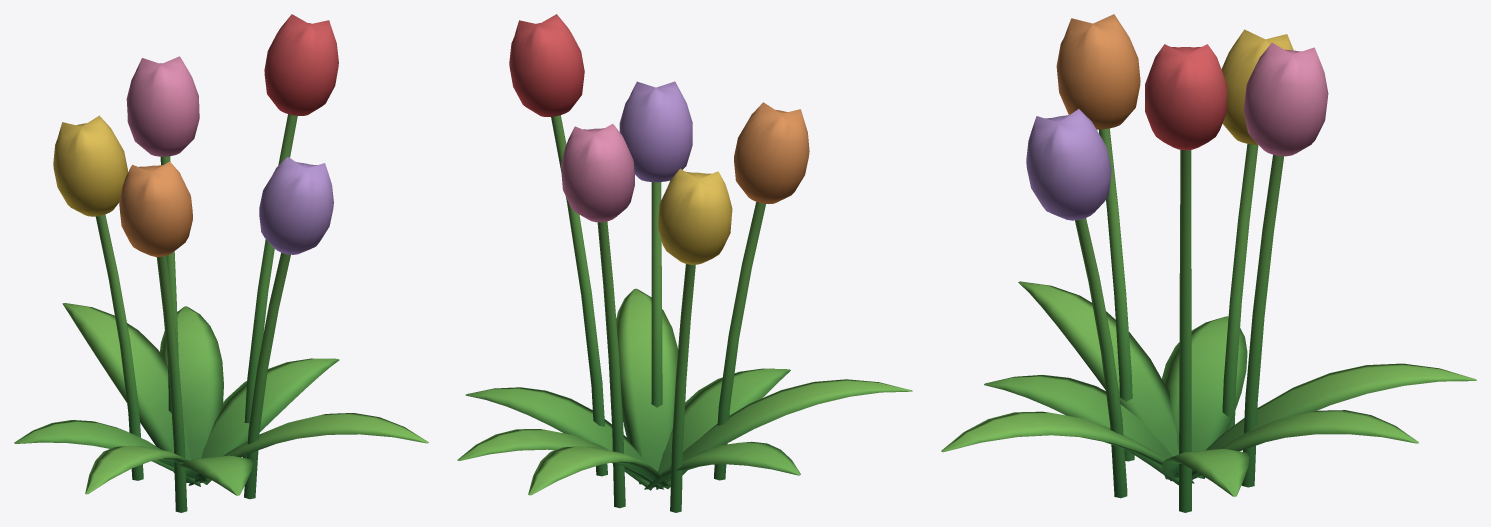
Rendered from tulip_clump.glb.
3 views of the same model, side by side, from view 1: azimuth 30°, elevation 25°; view 2: azimuth 150°, elevation 25°; view 3: azimuth 270°, elevation 25° (orthographic). The views are drawn at different scales.
Visible parts, largest first — view 1: tulip_clump; view 2: tulip_clump; view 3: tulip_clump.
Boxes of the visible parts, x1,y1,x2,y2 form: tulip_clump: (14,14,428,512); tulip_clump: (457,14,912,512); tulip_clump: (941,14,1476,512).
Bounding box in the file's own units: 0.2922 × 0.3494 × 0.3422.
